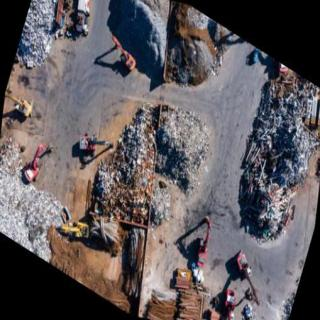METAL: (232, 246, 264, 302), (54, 0, 92, 40), (188, 211, 216, 263), (108, 32, 135, 83), (22, 140, 51, 186), (75, 130, 114, 163), (3, 89, 36, 122), (222, 285, 238, 320)
